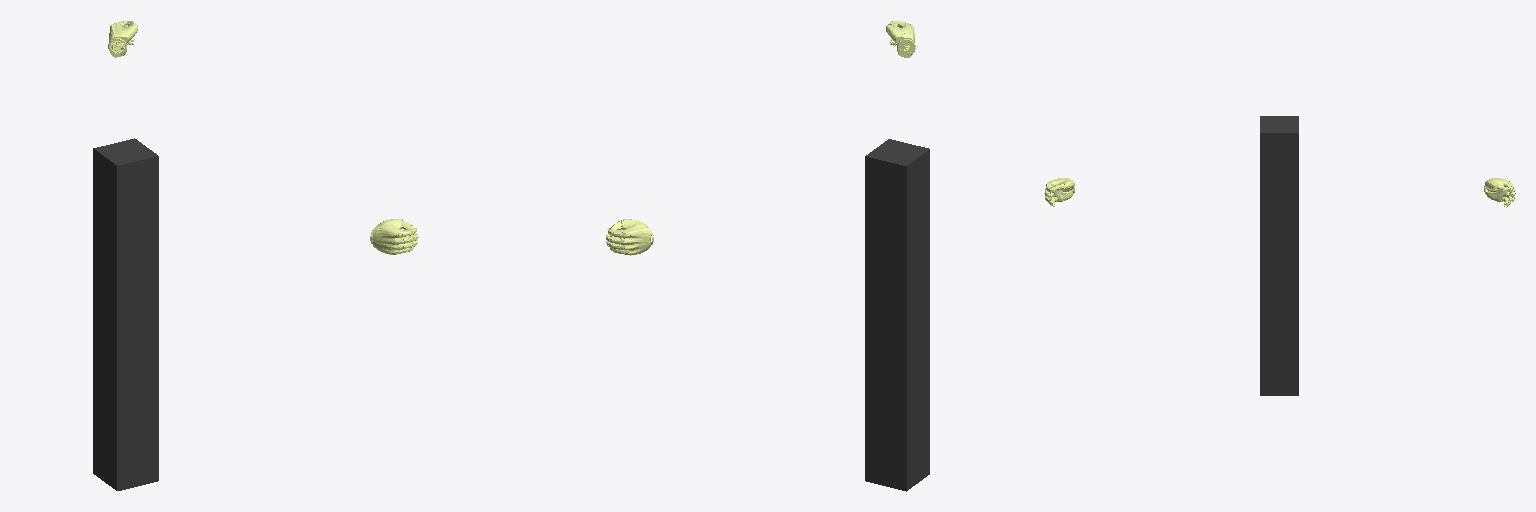
--- What the picture shows (computed from the rendered views, not written in the file) ---
3 views of the same robot in one strip: view 1: azimuth 30°, elevation 25°; view 2: azimuth 150°, elevation 25°; view 3: azimuth 270°, elevation 25° (orthographic).
Robot: darias — 50 links, 49 joints (44 revolute, 5 fixed); root link world; default pose: all joints at 0 but 20 set to mid-range because 0 is outside their limits (R_SMP = 0.7853, R_SMD = 0.6108, R_RIP = 0.7853, R_RID = 0.6108, R_MIP = 0.7853, R_MID = 0.6108, +14 more).
Visible links, largest first — view 1: darias, R_palm, L_palm; view 2: darias, L_palm, R_palm; view 3: darias.
Link boxes in pixels (x1,y1,x2,y2): darias: (93,138,158,490); R_palm: (370,219,403,254); L_palm: (108,23,137,57); darias: (865,139,929,491); L_palm: (621,219,653,255); R_palm: (886,24,915,57); darias: (1260,116,1298,395).
Size in the robot's own frame: 0.8218 by 2.43 by 1.5 metres.
Meshes: 13 distinct files referenced, 32 mesh visuals loaded (5 binary STL); not drawn: 14 (reference not matched to a file when rendering).

The robot description file, URDF, robot "darias":
<?xml version="1.0" ?>
<!-- =================================================================================== -->
<!-- |    This document was autogenerated by xacro from darias.urdf.xacro              | -->
<!-- |    EDITING THIS FILE BY HAND IS NOT RECOMMENDED                                 | -->
<!-- =================================================================================== -->
<robot name="darias" xmlns:controller="http://playerstage.sourceforge.net/gazebo/xmlschema/#controller" xmlns:interface="http://playerstage.sourceforge.net/gazebo/xmlschema/#interface" xmlns:sensor="http://playerstage.sourceforge.net/gazebo/xmlschema/#sensor" xmlns:xacro="http://www.ros.org/wiki/xacro">
  <!-- the mass values and inertia may not be completly correct as the moment so this model should just be used as a kinematic one now-->
  <material name="DarkGrey">
    <color rgba="0.3 0.3 0.3 1.0"/>
  </material>
  <material name="Black">
    <color rgba="0 0 0 1.0"/>
  </material>
  <material name="Grey">
    <color rgba="0.7 0.7 0.7 1.0"/>
  </material>
  <material name="Blue">
    <color rgba="0.0 0.5 0.8 1.0"/>
  </material>
  <material name="HandGray">
    <color rgba="0.953 0.996 0.694 1.0"/>
  </material>
  <!-- offset values for left and right arm, triangle forms 60 degree, offset over tabel: offset from base top: -->
  <!-- not used now need to measure offset-->
  <!-- not used now-->
  <!-- Darias base (basically just a box on which the arms are mounted on) -->
  <link name="world"/>
  <joint name="fixed" type="fixed">
    <origin rpy="0.0 0.0 0.0" xyz="0.0 0.0 1.307 "/>
    <parent link="world"/>
    <child link="darias"/>
  </joint>
  <link name="darias">
    <inertial>
      <mass value="200.0"/>
      <origin rpy="0 0 0" xyz="0 0 0.15"/>
      <!-- need to check all this inertia stuff -->
      <inertia ixx="2.38541666667" ixy="0" ixz="0" iyy="0.708333333333" iyz="0" izz="3.01041666667"/>
    </inertial>
    <visual>
      <origin rpy="0 0 0" xyz="-0.1 0 -0.472"/>
      <geometry>
        <box size="0.2 0.2 1.5"/>
      </geometry>
      <material name="DarkGrey"/>
    </visual>
    <collision>
      <origin rpy="0 0 0" xyz="-0.1 0 -0.472"/>
      <geometry>
        <box size="0.2 0.2 1.5"/>
      </geometry>
    </collision>
  </link>
  <gazebo reference="darias">
    <material value="Gazebo/Black"/>
    <turnGravityOff>0</turnGravityOff>
    <!-- use gravity for the base even if disabled for the arms in order to prevent darias from falling-->
  </gazebo>
  <!-- Darias right arm -->
  <joint name="darias_R_base" type="fixed">
    <origin rpy="1.570796 -1.570796 0.523598776" xyz="-0.11 -0.06 0.193"/>
    <parent link="darias"/>
    <child link="calib_R_base_link"/>
  </joint>
  <link name="calib_R_base_link">
    <inertial>
      <mass value="1.0"/>
      <origin rpy="0 0 0" xyz="0 0 0.055"/>
      <inertia ixx="0.00190833333333" ixy="0" ixz="0" iyy="0.0018" iyz="0" izz="0.00190833333333"/>
    </inertial>
    <visual>
      <origin rpy="0 0 0" xyz="0 0 0"/>
      <geometry>
        <mesh filename="meshes/arm/convex/arm_base_convex.stl"/>
      </geometry>
      <material name="Blue"/>
    </visual>
    <collision>
      <origin rpy="0 0 0" xyz="0 0 0"/>
      <geometry>
        <mesh filename="meshes/arm/convex/arm_base_convex.stl"/>
      </geometry>
    </collision>
  </link>
  <gazebo reference="calib_R_base_link">
    <material value="Gazebo/Blue"/>
    <turnGravityOff>1</turnGravityOff>
  </gazebo>
  <joint name="R_SFE" type="revolute">
    <!-- former revolute -->
    <origin rpy="0 0 0" xyz="0 0 0.11"/>
    <axis xyz="0 0 1"/>
    <limit effort="10000.0" lower="-2.967059" upper="2.967059" velocity="1.91986217719"/>
    <!-- 204 -->
    <safety_controller k_position="100" k_velocity="2" soft_lower_limit="-2.93215314335" soft_upper_limit="2.93215314335"/>
    <dynamics damping="0.1"/>
    <parent link="calib_R_base_link"/>
    <child link="R_1_link"/>
  </joint>
  <link name="R_1_link">
    <inertial>
      <mass value="1.0"/>
      <origin rpy="0 0 0" xyz="0 0 0.130"/>
      <inertia ixx="0.00683333333333" ixy="0" ixz="0" iyy="0.0015" iyz="0" izz="0.00593333333333"/>
    </inertial>
    <visual>
      <origin rpy="0 0 3.14159265359" xyz="0 0 0"/>
      <geometry>
        <mesh filename="meshes/arm/convex/arm_segment_a_convex.stl"/>
      </geometry>
      <material name="Blue"/>
    </visual>
    <collision>
      <origin rpy="0 0 3.14159265359" xyz="0 0 0"/>
      <geometry>
        <mesh filename="meshes/arm/convex/arm_segment_a_convex.stl"/>
      </geometry>
    </collision>
  </link>
  <gazebo reference="R_1_link">
    <material value="Gazebo/Blue"/>
    <turnGravityOff>1</turnGravityOff>
  </gazebo>
  <transmission name="R_0_trans">
    <type>transmission_interface/SimpleTransmission</type>
    <joint name="R_SFE">
      <hardwareInterface>EffortJointInterface</hardwareInterface>
    </joint>
    <actuator name="R_0_motor">
      <mechanicalReduction>1</mechanicalReduction>
    </actuator>
  </transmission>
  <joint name="R_SAA" type="revolute">
    <origin rpy="0 0 0" xyz="0 0 0.20"/>
    <axis xyz="0 -1 0"/>
    <limit effort="10000.0" lower="-2.094395" upper="2.094395" velocity="1.91986217719"/>
    <!-- effort 306 -->
    <safety_controller k_position="100" k_velocity="2" soft_lower_limit="-2.05948851735" soft_upper_limit="2.05948851735"/>
    <dynamics damping="0.1"/>
    <parent link="R_1_link"/>
    <child link="R_2_link"/>
  </joint>
  <link name="R_2_link">
    <inertial>
      <mass value="1.0"/>
      <origin rpy="0 0 0" xyz="0 0.06 0.07"/>
      <inertia ixx="0.00683333333333" ixy="0" ixz="0" iyy="0.0015" iyz="0" izz="0.00593333333333"/>
    </inertial>
    <visual>
      <origin rpy="3.14159265359 0 3.14159265359" xyz="0 0 0.2"/>
      <geometry>
        <mesh filename="meshes/arm/convex/arm_segment_b_convex.stl"/>
      </geometry>
      <material name="Blue"/>
    </visual>
    <collision>
      <origin rpy="3.14159265359 0 3.14159265359" xyz="0 0 0.2"/>
      <geometry>
        <mesh filename="meshes/arm/convex/arm_segment_b_convex.stl"/>
      </geometry>
    </collision>
  </link>
  <gazebo reference="R_2_link">
    <material value="Gazebo/Blue"/>
    <turnGravityOff>1</turnGravityOff>
  </gazebo>
  <transmission name="R_1_trans">
    <type>transmission_interface/SimpleTransmission</type>
    <joint name="R_SAA">
      <hardwareInterface>EffortJointInterface</hardwareInterface>
    </joint>  
    <actuator name="R_1_motor">
      
      <mechanicalReduction>1</mechanicalReduction>
    </actuator>
  </transmission>
  <joint name="R_HR" type="revolute">
    <origin rpy="0 0 0" xyz="0 0 0.20"/>
    <axis xyz="0 0 1"/>
    <limit effort="10000.0" lower="-2.967059" upper="2.967059" velocity="2.26892802759"/>
    <!-- 204 -->
    <safety_controller k_position="100" k_velocity="2" soft_lower_limit="-2.93215314335" soft_upper_limit="2.93215314335"/>
    <dynamics damping="0.1"/>
    <parent link="R_2_link"/>
    <child link="R_3_link"/>
  </joint>
  <link name="R_3_link">
    <inertial>
      <mass value="1.0"/>
      <origin rpy="0 0 0" xyz="0 0.06 0.130"/>
      <inertia ixx="0.00683333333333" ixy="0" ixz="0" iyy="0.0015" iyz="0" izz="0.00593333333333"/>
    </inertial>
    <visual>
      <origin rpy="0 0 0" xyz="0 0 0"/>
      <geometry>
        <mesh filename="meshes/arm/convex/arm_segment_a_convex.stl"/>
      </geometry>
      <material name="Blue"/>
    </visual>
    <collision>
      <origin rpy="0 0 0" xyz="0 0 0"/>
      <geometry>
        <mesh filename="meshes/arm/convex/arm_segment_a_convex.stl"/>
      </geometry>
    </collision>
  </link>
  <gazebo reference="R_3_link">
    <material value="Gazebo/Blue"/>
    <turnGravityOff>1</turnGravityOff>
  </gazebo>
  <transmission name="R_2_trans">
    <type>transmission_interface/SimpleTransmission</type>
    <joint name="R_HR">
      <hardwareInterface>EffortJointInterface</hardwareInterface>
    </joint>
    <actuator name="R_2_motor">
      
      <mechanicalReduction>1</mechanicalReduction>
    </actuator>
  </transmission>
  <joint name="R_EB" type="revolute">
    <origin rpy="0 0 0" xyz="0 0 0.20"/>
    <axis xyz="0 1 0"/>
    <limit effort="10000.0" lower="-2.094395" upper="2.094395" velocity="2.26892802759"/>
    <!-- 306 -->
    <safety_controller k_position="100" k_velocity="2" soft_lower_limit="-2.05948851735" soft_upper_limit="2.05948851735"/>
    <dynamics damping="0.1"/>
    <parent link="R_3_link"/>
    <child link="R_4_link"/>
  </joint>
  <link name="R_4_link">
    <inertial>
      <mass value="1.0"/>
      <origin rpy="0 0 0" xyz="0 -0.06 0.07"/>
      <inertia ixx="0.00683333333333" ixy="0" ixz="0" iyy="0.0015" iyz="0" izz="0.00593333333333"/>
    </inertial>
    <visual>
      <origin rpy="0 3.14159265359 3.14159265359" xyz="0 0 0.2"/>
      <geometry>
        <mesh filename="meshes/arm/convex/arm_segment_b_convex.stl"/>
      </geometry>
      <material name="Blue"/>
    </visual>
    <collision>
      <origin rpy="0 3.14159265359 3.14159265359" xyz="0 0 0.2"/>
      <geometry>
        <mesh filename="meshes/arm/convex/arm_segment_b_convex.stl"/>
      </geometry>
    </collision>
  </link>
  <gazebo reference="R_4_link">
    <material value="Gazebo/Blue"/>
    <turnGravityOff>1</turnGravityOff>
  </gazebo>
  <transmission name="R_3_trans">
    <type>transmission_interface/SimpleTransmission</type>
    <joint name="R_EB">
      <hardwareInterface>EffortJointInterface</hardwareInterface>
    </joint>
    <actuator name="R_3_motor">
     
      <mechanicalReduction>1</mechanicalReduction>
    </actuator>
  </transmission>
  <joint name="R_WR" type="revolute">
    <origin rpy="0 0 0" xyz="0 0 0.20"/>
    <axis xyz="0 0 1"/>
    <limit effort="10000.0" lower="-2.967059" upper="2.967059" velocity="2.26892802759"/>
    <!-- 204 -->
    <safety_controller k_position="100" k_velocity="2" soft_lower_limit="-2.93215314335" soft_upper_limit="2.93215314335"/>
    <dynamics damping="0.1"/>
    <parent link="R_4_link"/>
    <child link="R_5_link"/>
  </joint>
  <link name="R_5_link">
    <inertial>
      <mass value="1.0"/>
      <origin rpy="0 0 0" xyz="0 0 0.124"/>
      <inertia ixx="0.00632533333333" ixy="0" ixz="0" iyy="0.0015" iyz="0" izz="0.00542533333333"/>
    </inertial>
    <visual>
      <origin rpy="0 0 3.14159265359" xyz="0 0 0"/>
      <geometry name="R_5_geom">
        <mesh filename="meshes/arm/convex/arm_segment_last_convex.stl"/>
      </geometry>
      <material name="Blue"/>
    </visual>
    <collision>
      <origin rpy="0 0 3.14159265359" xyz="0 0 0"/>
      <geometry>
        <mesh filename="meshes/arm/convex/arm_segment_last_convex.stl"/>
      </geometry>
    </collision>
  </link>
  <gazebo reference="R_5_link">
    <material value="Gazebo/Blue"/>
    <turnGravityOff>1</turnGravityOff>
  </gazebo>
  <transmission name="R_4_trans">
    <type>transmission_interface/SimpleTransmission</type>
    <joint name="R_WR">
      <hardwareInterface>EffortJointInterface</hardwareInterface>
    </joint>
    <actuator name="R_4_motor">
      <mechanicalReduction>1</mechanicalReduction>
    </actuator>
  </transmission>
  <joint name="R_WFE" type="revolute">
    <origin rpy="0 0 0" xyz="0 0 0.19"/>
    <axis xyz="0 -1 0"/>
    <limit effort="10000.0" lower="-2.094395" upper="2.094395" velocity="3.14159265359"/>
    <!-- 306 -->
    <safety_controller k_position="100" k_velocity="2" soft_lower_limit="-2.05948851735" soft_upper_limit="2.05948851735"/>
    <dynamics damping="0.1"/>
    <parent link="R_5_link"/>
    <child link="R_6_link"/>
  </joint>
  <link name="R_6_link">
    <inertial>
      <mass value="1.0"/>
      <origin rpy="0 0 0" xyz="0 0 0.0625"/>
      <inertia ixx="0.00260416666667" ixy="0" ixz="0" iyy="0.00260416666667" iyz="0" izz="0.00260416666667"/>
    </inertial>
    <visual>
      <origin rpy="0 0 3.14159265359" xyz="0 0 0"/>
      <geometry>
        <mesh filename="meshes/arm/convex/arm_wrist_convex.stl"/>
      </geometry>
      <material name="HandGray"/>
    </visual>
    <collision>
      <origin rpy="0 0 3.14159265359" xyz="0 0 0"/>
      <geometry>
        <mesh filename="meshes/arm/convex/arm_wrist_convex.stl"/>
      </geometry>
    </collision>
  </link>
  <gazebo reference="R_6_link">
    <material value="Gazebo/White"/>
    <turnGravityOff>1</turnGravityOff>
  </gazebo>
  <transmission name="R_5_trans" >
    <type>transmission_interface/SimpleTransmission</type>
    <joint name="R_WFE">
      <hardwareInterface>EffortJointInterface</hardwareInterface>
    </joint>
    <actuator name="R_5_motor">
      <mechanicalReduction>1</mechanicalReduction>
    </actuator>
  </transmission>
  <joint name="R_WAA" type="revolute">
    <origin rpy="0 0 0" xyz="0.0 0 0.078"/>
    <axis xyz="0 0 1"/>
    <limit effort="10000.0" lower="-2.967059" upper="2.967059" velocity="3.14159265359"/>
    <safety_controller k_position="100" k_velocity="2" soft_lower_limit="-2.93215314335" soft_upper_limit="2.93215314335"/>
    <dynamics damping="0.1"/>
    <parent link="R_6_link"/>
    <child link="right_endeffector_link"/>
  </joint>
  <transmission name="R_6_trans">
    <type>transmission_interface/SimpleTransmission</type>
    <joint name="R_WAA">
      <hardwareInterface>EffortJointInterface</hardwareInterface>
    </joint>
    <actuator name="R_6_motor">
      <mechanicalReduction>1</mechanicalReduction>
    </actuator>
  </transmission>
  <link name="right_endeffector_link">
    <inertial>
      <mass value="1"/>
      <origin rpy="0 0 0" xyz="0 0 0.0625"/>
      <inertia ixx="0.00260416666667" ixy="0" ixz="0" iyy="0.00260416666667" iyz="0" izz="0.00260416666667"/>
    </inertial>
  </link>
  <gazebo reference="right_endeffector_link">
    <material value="Gazebo/White"/>
    <turnGravityOff>1</turnGravityOff>
  </gazebo>
  <!-- Darias left arm -->
  <joint name="darias_L_base" type="fixed">
    <origin rpy="1.570796 1.570796 2.617993878" xyz="-0.11 0.06 0.193"/>
    <parent link="darias"/>
    <child link="calib_L_base_link"/>
  </joint>
  <link name="calib_L_base_link">
    <inertial>
      <mass value="1.0"/>
      <origin rpy="0 0 0" xyz="0 0 0.055"/>
      <inertia ixx="0.00190833333333" ixy="0" ixz="0" iyy="0.0018" iyz="0" izz="0.00190833333333"/>
    </inertial>
    <visual>
      <origin rpy="0 0 0" xyz="0 0 0"/>
      <geometry>
        <mesh filename="meshes/arm/convex/arm_base_convex.stl"/>
      </geometry>
      <material name="Blue"/>
    </visual>
    <collision>
      <origin rpy="0 0 0" xyz="0 0 0"/>
      <geometry>
        <mesh filename="meshes/arm/convex/arm_base_convex.stl"/>
      </geometry>
    </collision>
  </link>
  <gazebo reference="calib_L_base_link">
    <material value="Gazebo/Blue"/>
    <turnGravityOff>1</turnGravityOff>
  </gazebo>
  <joint name="L_SFE" type="revolute">
    <!-- former revolute -->
    <origin rpy="0 0 0" xyz="0 0 0.11"/>
    <axis xyz="0 0 1"/>
    <limit effort="10000.0" lower="-2.967059" upper="2.967059" velocity="1.91986217719"/>
    <!-- 204 -->
    <safety_controller k_position="100" k_velocity="2" soft_lower_limit="-2.93215314335" soft_upper_limit="2.93215314335"/>
    <dynamics damping="0.1"/>
    <parent link="calib_L_base_link"/>
    <child link="L_1_link"/>
  </joint>
  <link name="L_1_link">
    <inertial>
      <mass value="1.0"/>
      <origin rpy="0 0 0" xyz="0 0 0.130"/>
      <inertia ixx="0.00683333333333" ixy="0" ixz="0" iyy="0.0015" iyz="0" izz="0.00593333333333"/>
    </inertial>
    <visual>
      <origin rpy="0 0 3.14159265359" xyz="0 0 0"/>
      <geometry>
        <mesh filename="meshes/arm/convex/arm_segment_a_convex.stl"/>
      </geometry>
      <material name="Blue"/>
    </visual>
    <collision>
      <origin rpy="0 0 3.14159265359" xyz="0 0 0"/>
      <geometry>
        <mesh filename="meshes/arm/convex/arm_segment_a_convex.stl"/>
      </geometry>
    </collision>
  </link>
  <gazebo reference="L_1_link">
    <material value="Gazebo/Blue"/>
    <turnGravityOff>1</turnGravityOff>
  </gazebo>
  <transmission name="L_0_trans">
    <type>transmission_interface/SimpleTransmission</type>
    <joint name="L_SFE">
      <hardwareInterface>EffortJointInterface</hardwareInterface>
    </joint>
    <actuator name="L_0_motor">
      <mechanicalReduction>1</mechanicalReduction>
    </actuator>
  </transmission>
  <joint name="L_SAA" type="revolute">
    <origin rpy="0 0 0" xyz="0 0 0.20"/>
    <axis xyz="0 -1 0"/>
    <limit effort="10000.0" lower="-2.094395" upper="2.094395" velocity="1.91986217719"/>
    <!-- effort 306 -->
    <safety_controller k_position="100" k_velocity="2" soft_lower_limit="-2.05948851735" soft_upper_limit="2.05948851735"/>
    <dynamics damping="0.1"/>
    <parent link="L_1_link"/>
    <child link="L_2_link"/>
  </joint>
  <link name="L_2_link">
    <inertial>
      <mass value="1.0"/>
      <origin rpy="0 0 0" xyz="0 0.06 0.07"/>
      <inertia ixx="0.00683333333333" ixy="0" ixz="0" iyy="0.0015" iyz="0" izz="0.00593333333333"/>
    </inertial>
    <visual>
      <origin rpy="3.14159265359 0 3.14159265359" xyz="0 0 0.2"/>
      <geometry>
        <mesh filename="meshes/arm/convex/arm_segment_b_convex.stl"/>
      </geometry>
      <material name="Blue"/>
    </visual>
    <collision>
      <origin rpy="3.14159265359 0 3.14159265359" xyz="0 0 0.2"/>
      <geometry>
        <mesh filename="meshes/arm/convex/arm_segment_b_convex.stl"/>
      </geometry>
    </collision>
  </link>
  <gazebo reference="L_2_link">
    <material value="Gazebo/Blue"/>
    <turnGravityOff>1</turnGravityOff>
  </gazebo>
  <transmission name="L_1_trans">
    <type>transmission_interface/SimpleTransmission</type>
    <joint name="L_SAA">
      <hardwareInterface>EffortJointInterface</hardwareInterface>
    </joint>
    <actuator name="L_1_motor">
      <mechanicalReduction>1</mechanicalReduction>
    </actuator>
  </transmission>
  <joint name="L_HR" type="revolute">
    <origin rpy="0 0 0" xyz="0 0 0.20"/>
    <axis xyz="0 0 1"/>
    <limit effort="10000.0" lower="-2.967059" upper="2.967059" velocity="2.26892802759"/>
    <!-- 204 -->
    <safety_controller k_position="100" k_velocity="2" soft_lower_limit="-2.93215314335" soft_upper_limit="2.93215314335"/>
    <dynamics damping="0.1"/>
    <parent link="L_2_link"/>
    <child link="L_3_link"/>
  </joint>
  <link name="L_3_link">
    <inertial>
      <mass value="1.0"/>
      <origin rpy="0 0 0" xyz="0 0.06 0.130"/>
      <inertia ixx="0.00683333333333" ixy="0" ixz="0" iyy="0.0015" iyz="0" izz="0.00593333333333"/>
    </inertial>
    <visual>
      <origin rpy="0 0 0" xyz="0 0 0"/>
      <geometry>
        <mesh filename="meshes/arm/convex/arm_segment_a_convex.stl"/>
      </geometry>
      <material name="Blue"/>
    </visual>
    <collision>
      <origin rpy="0 0 0" xyz="0 0 0"/>
      <geometry>
        <mesh filename="meshes/arm/convex/arm_segment_a_convex.stl"/>
      </geometry>
    </collision>
  </link>
  <gazebo reference="L_3_link">
    <material value="Gazebo/Blue"/>
    <turnGravityOff>1</turnGravityOff>
  </gazebo>
  <transmission name="L_2_trans">
    <type>transmission_interface/SimpleTransmission</type>
    <joint name="L_HR">
      <hardwareInterface>EffortJointInterface</hardwareInterface>
    </joint>
    <actuator name="L_2_motor">
      <mechanicalReduction>1</mechanicalReduction>
    </actuator>
  </transmission>
  <joint name="L_EB" type="revolute">
    <origin rpy="0 0 0" xyz="0 0 0.20"/>
    <axis xyz="0 1 0"/>
    <limit effort="10000.0" lower="-2.094395" upper="2.094395" velocity="2.26892802759"/>
    <!-- 306 -->
    <safety_controller k_position="100" k_velocity="2" soft_lower_limit="-2.05948851735" soft_upper_limit="2.05948851735"/>
    <dynamics damping="0.1"/>
    <parent link="L_3_link"/>
    <child link="L_4_link"/>
  </joint>
  <link name="L_4_link">
    <inertial>
      <mass value="1.0"/>
      <origin rpy="0 0 0" xyz="0 -0.06 0.07"/>
      <inertia ixx="0.00683333333333" ixy="0" ixz="0" iyy="0.0015" iyz="0" izz="0.00593333333333"/>
    </inertial>
    <visual>
      <origin rpy="0 3.14159265359 3.14159265359" xyz="0 0 0.2"/>
      <geometry>
        <mesh filename="meshes/arm/convex/arm_segment_b_convex.stl"/>
      </geometry>
      <material name="Blue"/>
    </visual>
    <collision>
      <origin rpy="0 3.14159265359 3.14159265359" xyz="0 0 0.2"/>
      <geometry>
        <mesh filename="meshes/arm/convex/arm_segment_b_convex.stl"/>
      </geometry>
    </collision>
  </link>
  <gazebo reference="L_4_link">
    <material value="Gazebo/Blue"/>
    <turnGravityOff>1</turnGravityOff>
  </gazebo>
  <transmission name="L_3_trans">
    <type>transmission_interface/SimpleTransmission</type>
    <joint name="L_EB">
      <hardwareInterface>EffortJointInterface</hardwareInterface>
    </joint>
    <actuator name="L_3_motor">
      <mechanicalReduction>1</mechanicalReduction>
    </actuator>
  </transmission>
  <joint name="L_WR" type="revolute">
    <origin rpy="0 0 0" xyz="0 0 0.20"/>
    <axis xyz="0 0 1"/>
    <limit effort="10000.0" lower="-2.967059" upper="2.967059" velocity="2.26892802759"/>
    <!-- 204 -->
    <safety_controller k_position="100" k_velocity="2" soft_lower_limit="-2.93215314335" soft_upper_limit="2.93215314335"/>
    <dynamics damping="0.1"/>
    <parent link="L_4_link"/>
    <child link="L_5_link"/>
  </joint>
  <link name="L_5_link">
    <inertial>
      <mass value="1.0"/>
      <origin rpy="0 0 0" xyz="0 0 0.124"/>
      <inertia ixx="0.00632533333333" ixy="0" ixz="0" iyy="0.0015" iyz="0" izz="0.00542533333333"/>
    </inertial>
    <visual>
      <origin rpy="0 0 3.14159265359" xyz="0 0 0"/>
      <geometry name="L_5_geom">
        <mesh filename="meshes/arm/convex/arm_segment_last_convex.stl"/>
      </geometry>
      <material name="Blue"/>
    </visual>
    <collision>
      <origin rpy="0 0 3.14159265359" xyz="0 0 0"/>
      <geometry>
        <mesh filename="meshes/arm/convex/arm_segment_last_convex.stl"/>
      </geometry>
    </collision>
  </link>
  <gazebo reference="L_5_link">
    <material value="Gazebo/Blue"/>
    <turnGravityOff>1</turnGravityOff>
  </gazebo>
  <transmission name="L_4_trans">
    <type>transmission_interface/SimpleTransmission</type>
    <joint name="L_WR">
      <hardwareInterface>EffortJointInterface</hardwareInterface>
    </joint>
    <actuator name="L_4_motor">
      <mechanicalReduction>1</mechanicalReduction>
    </actuator>
  </transmission>
  <joint name="L_WFE" type="revolute">
    <origin rpy="0 0 0" xyz="0 0 0.19"/>
    <axis xyz="0 -1 0"/>
    <limit effort="10000.0" lower="-2.094395" upper="2.094395" velocity="3.14159265359"/>
    <!-- 306 -->
    <safety_controller k_position="100" k_velocity="2" soft_lower_limit="-2.05948851735" soft_upper_limit="2.05948851735"/>
    <dynamics damping="0.1"/>
    <parent link="L_5_link"/>
    <child link="L_6_link"/>
  </joint>
  <link name="L_6_link">
    <inertial>
      <mass value="1.0"/>
      <origin rpy="0 0 0" xyz="0 0 0.0625"/>
      <inertia ixx="0.00260416666667" ixy="0" ixz="0" iyy="0.00260416666667" iyz="0" izz="0.00260416666667"/>
    </inertial>
    <visual>
      <origin rpy="0 0 3.14159265359" xyz="0 0 0"/>
      <geometry>
        <mesh filename="meshes/arm/convex/arm_wrist_convex.stl"/>
      </geometry>
      <material name="HandGray"/>
    </visual>
    <collision>
      <origin rpy="0 0 3.14159265359" xyz="0 0 0"/>
      <geometry>
        <mesh filename="meshes/arm/convex/arm_wrist_convex.stl"/>
      </geometry>
    </collision>
  </link>
  <gazebo reference="L_6_link">
    <material value="Gazebo/White"/>
    <turnGravityOff>1</turnGravityOff>
  </gazebo>
  <transmission name="L_5_trans">
    <type>transmission_interface/SimpleTransmission</type>
    <joint name="L_WFE">
      <hardwareInterface>EffortJointInterface</hardwareInterface>
    </joint>
    <actuator name="L_5_motor">
      <mechanicalReduction>1</mechanicalReduction>
    </actuator>
  </transmission>
  <joint name="L_WAA" type="revolute">
    <origin rpy="0 0 0" xyz="0.0 0 0.078"/>
    <axis xyz="0 0 1"/>
    <limit effort="10000.0" lower="-2.094395" upper="2.094395" velocity="3.14159265359"/>
    <safety_controller k_position="100" k_velocity="2" soft_lower_limit="-2.93215314335" soft_upper_limit="2.93215314335"/>
    <dynamics damping="0.1"/>
    <parent link="L_6_link"/>
    <child link="left_endeffector_link"/>
  </joint>
  <transmission name="L_6_trans">
    <type>transmission_interface/SimpleTransmission</type>
    <joint name="L_WAA">
      <hardwareInterface>EffortJointInterface</hardwareInterface>
    </joint>
    <actuator name="L_6_motor">
      <mechanicalReduction>1</mechanicalReduction>
    </actuator>
  </transmission>
  <link name="left_endeffector_link">
    <inertial>
      <mass value="1"/>
      <origin rpy="0 0 0" xyz="0 0 0.0625"/>
      <inertia ixx="0.00260416666667" ixy="0" ixz="0" iyy="0.00260416666667" iyz="0" izz="0.00260416666667"/>
    </inertial>
  </link>
  <gazebo reference="left_endeffector_link">
    <material value="Gazebo/White"/>
    <turnGravityOff>1</turnGravityOff>
  </gazebo>
  <!-- right Hand of darias -->
  <joint name="R_mount" type="fixed">
    <limit effort="10000.0" lower="-2.96705972839" upper="2.96705972839" velocity="3.14159265359"/>
    <parent link="right_endeffector_link"/>
    <child link="R_palm"/>
    <origin rpy="0 0 -1.57" xyz="0.0 0 0"/>
  </joint>
  <link name="R_palm">
    <inertial>
      <origin rpy="0 0 0" xyz="-0.004 0.002 0.076"/>
      <mass value="0.5"/>
      <inertia ixx="0.00141454166667" ixy="0" ixz="0" iyy="0.000900333333333" iyz="0" izz="0.00175454166667"/>
    </inertial>
    <visual>
      <origin rpy="1.57 0  1.57 " xyz="0.02 0.007  0.025"/>
      <geometry>
        <mesh filename="meshes/hand/righthandbase.stl" scale="0.001 0.001 0.001"/>
      </geometry>
      <material name="HandGray"/>
    </visual>
    <collision>
      <origin rpy="1.57 0  1.57" xyz="0.02 0.007  0.025"/>
      <geometry>
        <mesh filename="meshes/hand/righthandbase.stl" scale="0.001 0.001 0.001"/>
      </geometry>
    </collision>
  </link>
  <gazebo reference="R_palm">
    <material value="Gazebo/White"/>
    <turnGravityOff>1</turnGravityOff>
  </gazebo>
  <joint name="R_SMS" type="revolute">
    <parent link="R_palm"/>
    <child link="R_SMS_link"/>
    <origin rpy="1.570796 -1.536488 1.570796" xyz="0.000971571  -0.043396306  0.095043545"/>
    <axis xyz="0 0 1"/>
    <limit effort="100" lower="-0.261" upper="0.2618" velocity="100"/>
    <dynamics damping="0.005"/>
  </joint>
  <transmission name="R_SMS_trans">
    <type>transmission_interface/SimpleTransmission</type>
    <joint name="R_SMS">
      <hardwareInterface>EffortJointInterface</hardwareInterface>
    </joint>
    <actuator name="R_SMS_motor">
      <mechanicalReduction>1</mechanicalReduction>
    </actuator>
  </transmission>
  <link name="R_SMS_link">
    <inertial>
      <origin rpy="0 0 0" xyz="0.004 0 0"/>
      <mass value="0.1"/>
      <inertia ixx="2.24083333333e-05" ixy="0" ixz="0" iyy="1.42833333333e-05" iyz="0" izz="1.85416666667e-05"/>
    </inertial>
    <visual>
      <origin rpy="0 0 0" xyz="0 0 0"/>
      <geometry>
        <mesh filename="meshes/hand/finger_base.stl"/>
      </geometry>
      <material name="HandGray"/>
    </visual>
    <collision>
      <origin rpy="0 0 0" xyz="0 0 0"/>
      <geometry>
        <mesh filename="meshes/hand/finger_base.stl"/>
      </geometry>
    </collision>
  </link>
  <gazebo reference="R_SMS_link">
    <material value="Gazebo/White"/>
    <turnGravityOff>1</turnGravityOff>
  </gazebo>
  <joint name="R_SMP" type="revolute">
    <parent link="R_SMS_link"/>
    <child link="R_SMP_link"/>
    <origin rpy="1.570796 0 0" xyz="0 0 0"/>
    <axis xyz="0 0 1"/>
    <limit effort="100" lower="0.087" upper="1.4835" velocity="100"/>
    <dynamics damping="0.005"/>
  </joint>
  <transmission name="R_SMP_trans">
    <type>transmission_interface/SimpleTransmission</type>
    <joint name="R_SMP">
      <hardwareInterface>EffortJointInterface</hardwareInterface>
    </joint>
    <actuator name="R_SMP_motor">
      <mechanicalReduction>1</mechanicalReduction>
    </actuator>
  </transmission>
  <link name="R_SMP_link">
    <inertial>
      <origin rpy="0 0 0" xyz="0.035 -0.02 0"/>
      <mass value="0.1"/>
      <inertia ixx="6.68333333333e-05" ixy="0" ixz="0" iyy="7.00416666667e-05" iyz="0" izz="2.48083333333e-05"/>
    </inertial>
    <visual>
      <origin rpy="0 -1.57  -1.57 " xyz="-0.085 0.015  -0.03"/>
      <geometry>
        <mesh filename="meshes/hand/fore_proximalp.stl" scale="0.001 0.001 0.001"/>
      </geometry>
      <material name="HandGray"/>
    </visual>
    <collision>
      <origin rpy="0 -1.57  -1.57" xyz="-0.085 0.015  -0.03"/>
      <geometry>
        <mesh filename="meshes/hand/fore_proximalp.stl" scale="0.001 0.001 0.001"/>
      </geometry>
    </collision>
  </link>
  <gazebo reference="R_SMP_link">
    <material value="Gazebo/White"/>
    <turnGravityOff>1</turnGravityOff>
  </gazebo>
  <joint name="R_SMD" type="revolute">
    <parent link="R_SMP_link"/>
    <child link="R_SMD_link"/>
    <origin rpy="0 0 0" xyz="0.055 0 0"/>
    <axis xyz="0 0 1"/>
    <limit effort="100" lower="0.087" upper="1.1345" velocity="100"/>
    <dynamics damping="0.005"/>
  </joint>
  <transmission name="R_SMD_trans">
    <type>transmission_interface/SimpleTransmission</type>
    <joint name="R_SMD">
      <hardwareInterface>EffortJointInterface</hardwareInterface>
    </joint>
    <actuator name="R_SMD_motor">
      <mechanicalReduction>1</mechanicalReduction>
    </actuator>
  </transmission>
  <link name="R_SMD_link">
    <inertial>
      <origin rpy="0 0 0" xyz="0.015 -0.01 0"/>
      <mass value="0.1"/>
      <inertia ixx="3.00333333333e-05" ixy="0" ixz="0" iyy="2.90666666667e-05" iyz="0" izz="1.40333333333e-05"/>
    </inertial>
    <visual>
      <origin rpy="0 -1.57  -1.55" xyz="-0.14 0.015  -0.03"/>
      <geometry>
        <mesh filename="meshes/hand/fore_middlep.stl" scale="0.001 0.001 0.001"/>
      </geometry>
      <material name="HandGray"/>
    </visual>
    <collision>
      <origin rpy="0 -1.57  -1.55" xyz="-0.14 0.015  -0.03"/>
      <geometry>
        <mesh filename="meshes/hand/fore_middlep.stl" scale="0.001 0.001 0.001"/>
      </geometry>
    </collision>
  </link>
  <gazebo reference="R_SMD_link">
    <material value="Gazebo/White"/>
    <turnGravityOff>1</turnGravityOff>
  </gazebo>
  
  <joint name="R_RIS" type="revolute">
    <parent link="R_palm"/>
    <child link="R_RIS_link"/>
    <origin rpy="1.570796 -1.536488 1.570796" xyz="-0.002529881 -0.016800135 0.114043545"/>
    <axis xyz="0 0 1"/>
    <limit effort="100" lower="-0.261" upper="0.2618" velocity="100"/>
    <dynamics damping="0.005"/>
  </joint>
  <transmission name="R_RIS_trans">
    <type>transmission_interface/SimpleTransmission</type>
    <joint name="R_RIS">
      <hardwareInterface>EffortJointInterface</hardwareInterface>
    </joint>
    <actuator name="R_RIS_motor">
      <mechanicalReduction>1</mechanicalReduction>
    </actuator>
  </transmission>
  <link name="R_RIS_link">
    <inertial>
      <origin rpy="0 0 0" xyz="0.004 0 0"/>
      <mass value="0.1"/>
      <inertia ixx="2.24083333333e-05" ixy="0" ixz="0" iyy="1.42833333333e-05" iyz="0" izz="1.85416666667e-05"/>
    </inertial>
    <visual>
      <origin rpy="0 0 0" xyz="0 0 0"/>
      <geometry>
        <mesh filename="meshes/hand/finger_base.stl"/>
      </geometry>
      <material name="HandGray"/>
    </visual>
    <collision>
      <origin rpy="0 0 0" xyz="0 0 0"/>
      <geometry>
        <mesh filename="meshes/hand/finger_base.stl"/>
      </geometry>
    </collision>
  </link>
  <gazebo reference="R_RIS_link">
    <material value="Gazebo/White"/>
    <turnGravityOff>1</turnGravityOff>
  </gazebo>
  <joint name="R_RIP" type="revolute">
    <parent link="R_RIS_link"/>
    <child link="R_RIP_link"/>
    <origin rpy="1.570796 0 0" xyz="0 0 0"/>
    <axis xyz="0 0 1"/>
    <limit effort="100" lower="0.087" upper="1.4835" velocity="100"/>
    <dynamics damping="0.005"/>
  </joint>
  <transmission name="R_RIP_trans">
    <type>transmission_interface/SimpleTransmission</type>
    <joint name="R_RIP">
      <hardwareInterface>EffortJointInterface</hardwareInterface>
    </joint>
    <actuator name="R_RIP_motor">
      <mechanicalReduction>1</mechanicalReduction>
    </actuator>
  </transmission>
  <link name="R_RIP_link">
    <inertial>
      <origin rpy="0 0 0" xyz="0.035 -0.02 0"/>
      <mass value="0.1"/>
      <inertia ixx="6.68333333333e-05" ixy="0" ixz="0" iyy="7.00416666667e-05" iyz="0" izz="2.48083333333e-05"/>
    </inertial>
    <visual>
      <origin rpy="0 -1.57  -1.57 " xyz="-0.085 0.015  -0.03"/>
      <geometry>
        <mesh filename="meshes/hand/fore_proximalp.stl" scale="0.001 0.001 0.001"/>
      </geometry>
      <material name="HandGray"/>
    </visual>
    <collision>
      <origin rpy="0 -1.57  -1.57" xyz="-0.085 0.015  -0.03"/>
      <geometry>
        <mesh filename="meshes/hand/fore_proximalp.stl" scale="0.001 0.001 0.001"/>
      </geometry>
    </collision>
  </link>
  <gazebo reference="R_RIP_link">
    <material value="Gazebo/White"/>
    <turnGravityOff>1</turnGravityOff>
  </gazebo>
  <joint name="R_RID" type="revolute">
    <parent link="R_RIP_link"/>
    <child link="R_RID_link"/>
    <origin rpy="0 0 0" xyz="0.055 0 0"/>
    <axis xyz="0 0 1"/>
    <limit effort="100" lower="0.087" upper="1.1345" velocity="100"/>
    <dynamics damping="0.005"/>
  </joint>
  <transmission name="R_RID_trans">
    <type>transmission_interface/SimpleTransmission</type>
    <joint name="R_RID">
      <hardwareInterface>EffortJointInterface</hardwareInterface>
    </joint>
    <actuator name="R_RID_motor">
      <mechanicalReduction>1</mechanicalReduction>
    </actuator>
  </transmission>
  <link name="R_RID_link">
    <inertial>
      <origin rpy="0 0 0" xyz="0.015 -0.01 0"/>
      <mass value="0.1"/>
      <inertia ixx="3.00333333333e-05" ixy="0" ixz="0" iyy="2.90666666667e-05" iyz="0" izz="1.40333333333e-05"/>
    </inertial>
    <visual>
      <origin rpy="0 -1.57  -1.55" xyz="-0.14 0.015  -0.03"/>
      <geometry>
        <mesh filename="meshes/hand/fore_middlep.stl" scale="0.001 0.001 0.001"/>
      </geometry>
      <material name="HandGray"/>
    </visual>
    <collision>
      <origin rpy="0 -1.57  -1.55" xyz="-0.14 0.015  -0.03"/>
      <geometry>
        <mesh filename="meshes/hand/fore_middlep.stl" scale="0.001 0.001 0.001"/>
      </geometry>
    </collision>
  </link>
  <gazebo reference="R_RID_link">
    <material value="Gazebo/White"/>
    <turnGravityOff>1</turnGravityOff>
  </gazebo>

  <joint name="R_MIS" type="revolute">
    <parent link="R_palm"/>
    <child link="R_MIS_link"/>
    <origin rpy="1.570796 -1.536488 1.570796" xyz="-0.002529881 0.009800135 0.116743545 "/>
    <axis xyz="0 0 1"/>
    <limit effort="100" lower="-0.261" upper="0.2618" velocity="100"/>
    <dynamics damping="0.005"/>
  </joint>
  <transmission name="R_MIS_trans">
    <type>transmission_interface/SimpleTransmission</type>
    <joint name="R_MIS">
      <hardwareInterface>EffortJointInterface</hardwareInterface>
    </joint>
    <actuator name="R_MIS_motor">
      <mechanicalReduction>1</mechanicalReduction>
    </actuator>
  </transmission>
  <link name="R_MIS_link">
    <inertial>
      <origin rpy="0 0 0" xyz="0.004 0 0"/>
      <mass value="0.1"/>
      <inertia ixx="2.24083333333e-05" ixy="0" ixz="0" iyy="1.42833333333e-05" iyz="0" izz="1.85416666667e-05"/>
    </inertial>
    <visual>
      <origin rpy="0 0 0" xyz="0 0 0"/>
      <geometry>
        <mesh filename="meshes/hand/finger_base.stl"/>
      </geometry>
      <material name="HandGray"/>
    </visual>
    <collision>
      <origin rpy="0 0 0" xyz="0 0 0"/>
      <geometry>
        <mesh filename="meshes/hand/finger_base.stl"/>
      </geometry>
    </collision>
  </link>
  <gazebo reference="R_MIS_link">
    <material value="Gazebo/White"/>
    <turnGravityOff>1</turnGravityOff>
  </gazebo>
  <joint name="R_MIP" type="revolute">
    <parent link="R_MIS_link"/>
    <child link="R_MIP_link"/>
    <origin rpy="1.570796 0 0" xyz="0 0 0"/>
    <axis xyz="0 0 1"/>
    <limit effort="100" lower="0.087" upper="1.4835" velocity="100"/>
    <dynamics damping="0.005"/>
  </joint>
  <transmission name="R_MIP_trans">
    <type>transmission_interface/SimpleTransmission</type>
    <joint name="R_MIP">
      <hardwareInterface>EffortJointInterface</hardwareInterface>
    </joint>
    <actuator name="R_MIP_motor">
      <mechanicalReduction>1</mechanicalReduction>
    </actuator>
  </transmission>
  <link name="R_MIP_link">
    <inertial>
      <origin rpy="0 0 0" xyz="0.035 -0.02 0"/>
      <mass value="0.1"/>
      <inertia ixx="6.68333333333e-05" ixy="0" ixz="0" iyy="7.00416666667e-05" iyz="0" izz="2.48083333333e-05"/>
    </inertial>
    <visual>
      <origin rpy="0 -1.57  -1.57 " xyz="-0.085 0.015  -0.03"/>
      <geometry>
        <mesh filename="meshes/hand/fore_proximalp.stl" scale="0.001 0.001 0.001"/>
      </geometry>
      <material name="HandGray"/>
    </visual>
    <collision>
      <origin rpy="0 -1.57  -1.57" xyz="-0.085 0.015  -0.03"/>
      <geometry>
        <mesh filename="meshes/hand/fore_proximalp.stl" scale="0.001 0.001 0.001"/>
      </geometry>
    </collision>
  </link>
  <gazebo reference="R_MIP_link">
    <material value="Gazebo/White"/>
    <turnGravityOff>1</turnGravityOff>
  </gazebo>
  <joint name="R_MID" type="revolute">
    <parent link="R_MIP_link"/>
    <child link="R_MID_link"/>
    <origin rpy="0 0 0" xyz="0.055 0 0"/>
    <axis xyz="0 0 1"/>
    <limit effort="100" lower="0.087" upper="1.1345" velocity="100"/>
    <dynamics damping="0.005"/>
  </joint>
  <transmission name="R_MID_trans">
    <type>transmission_interface/SimpleTransmission</type>
    <joint name="R_MID">
      <hardwareInterface>EffortJointInterface</hardwareInterface>
    </joint>
    <actuator name="R_MID_motor">
      <mechanicalReduction>1</mechanicalReduction>
    </actuator>
  </transmission>
  <link name="R_MID_link">
    <inertial>
      <origin rpy="0 0 0" xyz="0.015 -0.01 0"/>
      <mass value="0.1"/>
      <inertia ixx="3.00333333333e-05" ixy="0" ixz="0" iyy="2.90666666667e-05" iyz="0" izz="1.40333333333e-05"/>
    </inertial>
    <visual>
      <origin rpy="0 -1.57  -1.55" xyz="-0.14 0.015  -0.03"/>
      <geometry>
        <mesh filename="meshes/hand/fore_middlep.stl" scale="0.001 0.001 0.001"/>
      </geometry>
      <material name="HandGray"/>
    </visual>
    <collision>
      <origin rpy="0 -1.57  -1.55" xyz="-0.14 0.015  -0.03"/>
      <geometry>
        <mesh filename="meshes/hand/fore_middlep.stl" scale="0.001 0.001 0.001"/>
      </geometry>
    </collision>
  </link>
  <gazebo reference="R_MID_link">
    <material value="Gazebo/White"/>
    <turnGravityOff>1</turnGravityOff>
  </gazebo>
  
  <joint name="R_INS" type="revolute">
    <parent link="R_palm"/>
    <child link="R_INS_link"/>
    <origin rpy="1.570796 -1.536488 1.570796" xyz="-0.002529881 0.036800135 0.108743545"/>
    <axis xyz="0 0 1"/>
    <limit effort="100" lower="-0.261" upper="0.2618" velocity="100"/>
    <dynamics damping="0.005"/>
  </joint>
  <transmission name="R_INS_trans">
    <type>transmission_interface/SimpleTransmission</type>
    <joint name="R_INS">
      <hardwareInterface>EffortJointInterface</hardwareInterface>
    </joint>
    <actuator name="R_INS_motor">
      <mechanicalReduction>1</mechanicalReduction>
    </actuator>
  </transmission>
  <link name="R_INS_link">
    <inertial>
      <origin rpy="0 0 0" xyz="0.004 0 0"/>
      <mass value="0.1"/>
      <inertia ixx="2.24083333333e-05" ixy="0" ixz="0" iyy="1.42833333333e-05" iyz="0" izz="1.85416666667e-05"/>
    </inertial>
    <visual>
      <origin rpy="0 0 0" xyz="0 0 0"/>
      <geometry>
        <mesh filename="meshes/hand/finger_base.stl"/>
      </geometry>
      <material name="HandGray"/>
    </visual>
    <collision>
      <origin rpy="0 0 0" xyz="0 0 0"/>
      <geometry>
        <mesh filename="meshes/hand/finger_base.stl"/>
      </geometry>
    </collision>
  </link>
  <gazebo reference="R_INS_link">
    <material value="Gazebo/White"/>
    <turnGravityOff>1</turnGravityOff>
  </gazebo>
  <joint name="R_INP" type="revolute">
    <parent link="R_INS_link"/>
    <child link="R_INP_link"/>
    <origin rpy="1.570796 0 0" xyz="0 0 0"/>
    <axis xyz="0 0 1"/>
    <limit effort="100" lower="0.087" upper="1.4835" velocity="100"/>
    <dynamics damping="0.005"/>
  </joint>
  <transmission name="R_INP_trans">
    <type>transmission_interface/SimpleTransmission</type>
    <joint name="R_INP">
      <hardwareInterface>EffortJointInterface</hardwareInterface>
    </joint>
    <actuator name="R_INP_motor">
      <mechanicalReduction>1</mechanicalReduction>
    </actuator>
  </transmission>
  <link name="R_INP_link">
    <inertial>
      <origin rpy="0 0 0" xyz="0.035 -0.02 0"/>
      <mass value="0.1"/>
      <inertia ixx="6.68333333333e-05" ixy="0" ixz="0" iyy="7.00416666667e-05" iyz="0" izz="2.48083333333e-05"/>
    </inertial>
    <visual>
      <origin rpy="0 -1.57  -1.57 " xyz="-0.085 0.015  -0.03"/>
      <geometry>
        <mesh filename="meshes/hand/fore_proximalp.stl" scale="0.001 0.001 0.001"/>
      </geometry>
      <material name="HandGray"/>
    </visual>
    <collision>
      <origin rpy="0 -1.57  -1.57" xyz="-0.085 0.015  -0.03"/>
      <geometry>
        <mesh filename="meshes/hand/fore_proximalp.stl" scale="0.001 0.001 0.001"/>
      </geometry>
    </collision>
  </link>
  <gazebo reference="R_INP_link">
    <material value="Gazebo/White"/>
    <turnGravityOff>1</turnGravityOff>
  </gazebo>
  <joint name="R_IND" type="revolute">
    <parent link="R_INP_link"/>
    <child link="R_IND_link"/>
    <origin rpy="0 0 0" xyz="0.055 0 0"/>
    <axis xyz="0 0 1"/>
    <limit effort="100" lower="0.087" upper="1.1345" velocity="100"/>
    <dynamics damping="0.005"/>
  </joint>
  <transmission name="R_IND_trans">
    <type>transmission_interface/SimpleTransmission</type>
    <joint name="R_IND">
      <hardwareInterface>EffortJointInterface</hardwareInterface>
    </joint>
    <actuator name="R_IND_motor">
      <mechanicalReduction>1</mechanicalReduction>
    </actuator>
  </transmission>
  <link name="R_IND_link">
    <inertial>
      <origin rpy="0 0 0" xyz="0.015 -0.01 0"/>
      <mass value="0.1"/>
      <inertia ixx="3.00333333333e-05" ixy="0" ixz="0" iyy="2.90666666667e-05" iyz="0" izz="1.40333333333e-05"/>
    </inertial>
    <visual>
      <origin rpy="0 -1.57  -1.55" xyz="-0.14 0.015  -0.03"/>
      <geometry>
        <mesh filename="meshes/hand/fore_middlep.stl" scale="0.001 0.001 0.001"/>
      </geometry>
      <material name="HandGray"/>
    </visual>
    <collision>
      <origin rpy="0 -1.57  -1.55" xyz="-0.14 0.015  -0.03"/>
      <geometry>
        <mesh filename="meshes/hand/fore_middlep.stl" scale="0.001 0.001 0.001"/>
      </geometry>
    </collision>
  </link>
  <gazebo reference="R_IND_link">
    <material value="Gazebo/White"/>
    <turnGravityOff>1</turnGravityOff>
  </gazebo>
  
  <joint name="R_THS" type="revolute">
    <parent link="R_palm"/>
    <child link="R_THS_link"/>
    <origin rpy="0.0 -0.959927 0.60796" xyz="0.062569057 0.044544548 0.080044647"/>
    <axis xyz="0 0 1"/>
    <limit effort="100" lower="-0.261" upper="0.2618" velocity="100"/>
    <dynamics damping="0.005"/>
  </joint>
  <transmission name="R_THS_trans">
    <type>transmission_interface/SimpleTransmission</type>
    <joint name="R_THS">
      <hardwareInterface>EffortJointInterface</hardwareInterface>
    </joint>
    <actuator name="R_THS_motor">
      <mechanicalReduction>1</mechanicalReduction>
    </actuator>
  </transmission>
  <link name="R_THS_link">
    <inertial>
      <origin rpy="0 0 0" xyz="0.004 0 0"/>
      <mass value="0.1"/>
      <inertia ixx="2.24083333333e-05" ixy="0" ixz="0" iyy="1.42833333333e-05" iyz="0" izz="1.85416666667e-05"/>
    </inertial>
    <visual>
      <origin rpy="0 0 0" xyz="0 0 0"/>
      <geometry>
        <mesh filename="meshes/hand/finger_base.stl"/>
      </geometry>
      <material name="HandGray"/>
    </visual>
    <collision>
      <origin rpy="0 0 0" xyz="0 0 0"/>
      <geometry>
        <mesh filename="meshes/hand/finger_base.stl"/>
      </geometry>
    </collision>
  </link>
  <gazebo reference="R_THS_link">
    <material value="Gazebo/White"/>
    <turnGravityOff>1</turnGravityOff>
  </gazebo>
  <joint name="R_THP" type="revolute">
    <parent link="R_THS_link"/>
    <child link="R_THP_link"/>
    <origin rpy="1.570796 0 0" xyz="0 0 0"/>
    <axis xyz="0 0 1"/>
    <limit effort="100" lower="0.087" upper="1.4835" velocity="100"/>
    <dynamics damping="0.005"/>
  </joint>
  <transmission name="R_THP_trans">
    <type>transmission_interface/SimpleTransmission</type>
    <joint name="R_THP">
      <hardwareInterface>EffortJointInterface</hardwareInterface>
    </joint>
    <actuator name="R_THP_motor">
      <mechanicalReduction>1</mechanicalReduction>
    </actuator>
  </transmission>
  <link name="R_THP_link">
    <inertial>
      <origin rpy="0 0 0" xyz="0.035 -0.02 0"/>
      <mass value="0.1"/>
      <inertia ixx="6.68333333333e-05" ixy="0" ixz="0" iyy="7.00416666667e-05" iyz="0" izz="2.48083333333e-05"/>
    </inertial>
    <visual>
      <origin rpy="0 -1.57  -1.57 " xyz="-0.085 0.015  -0.03"/>
      <geometry>
        <mesh filename="meshes/hand/fore_proximalp.stl" scale="0.001 0.001 0.001"/>
      </geometry>
      <material name="HandGray"/>
    </visual>
    <collision>
      <origin rpy="0 -1.57  -1.57" xyz="-0.085 0.015  -0.03"/>
      <geometry>
        <mesh filename="meshes/hand/fore_proximalp.stl" scale="0.001 0.001 0.001"/>
      </geometry>
    </collision>
  </link>
  <gazebo reference="R_THP_link">
    <material value="Gazebo/White"/>
    <turnGravityOff>1</turnGravityOff>
  </gazebo>
  <joint name="R_THD" type="revolute">
    <parent link="R_THP_link"/>
    <child link="R_THD_link"/>
    <origin rpy="0 0 0" xyz="0.055 0 0"/>
    <axis xyz="0 0 1"/>
    <limit effort="100" lower="0.087" upper="1.1345" velocity="100"/>
    <dynamics damping="0.005"/>
  </joint>
  <transmission name="R_THD_trans">
    <type>transmission_interface/SimpleTransmission</type>
    <joint name="R_THD">
      <hardwareInterface>EffortJointInterface</hardwareInterface>
    </joint>
    <actuator name="R_THD_motor">
      <mechanicalReduction>1</mechanicalReduction>
    </actuator>
  </transmission>
  <link name="R_THD_link">
    <inertial>
      <origin rpy="0 0 0" xyz="0.015 -0.01 0"/>
      <mass value="0.1"/>
      <inertia ixx="3.00333333333e-05" ixy="0" ixz="0" iyy="2.90666666667e-05" iyz="0" izz="1.40333333333e-05"/>
    </inertial>
    <visual>
      <origin rpy="0 -1.57  -1.55" xyz="-0.14 0.015  -0.03"/>
      <geometry>
        <mesh filename="meshes/hand/fore_middlep.stl" scale="0.001 0.001 0.001"/>
      </geometry>
      <material name="HandGray"/>
    </visual>
    <collision>
      <origin rpy="0 -1.57  -1.55" xyz="-0.14 0.015  -0.03"/>
      <geometry>
        <mesh filename="meshes/hand/fore_middlep.stl" scale="0.001 0.001 0.001"/>
      </geometry>
    </collision>
  </link>
  <gazebo reference="R_THD_link">
    <material value="Gazebo/White"/>
    <turnGravityOff>1</turnGravityOff>
  </gazebo>
  <!-- left Hand of darias -->
  <joint name="L_mount" type="fixed">
    <limit effort="10000.0" lower="-2.96705972839" upper="2.96705972839" velocity="3.14159265359"/>
    <parent link="left_endeffector_link"/>
    <child link="L_palm"/>
    <origin rpy="0 0 -1.57" xyz="0.0 0 0"/>
  </joint>
  <link name="L_palm">
    <inertial>
      <origin rpy="0 0 0" xyz="-0.004 0.002 0.076"/>
      <mass value="0.5"/>
      <inertia ixx="0.00141454166667" ixy="0" ixz="0" iyy="0.000900333333333" iyz="0" izz="0.00175454166667"/>
    </inertial>
    <visual>
      <origin rpy="1.57 0  1.57 " xyz="0.02 -0.007  0.025"/>
      <geometry>
        <mesh filename="meshes/hand/lefthandbase.stl"/>
      </geometry>
      <material name="HandGray"/>
    </visual>
    <collision>
      <origin rpy="1.57 0  1.57" xyz="0.02 -0.007  0.025"/>
      <geometry>
        <mesh filename="meshes/hand/lefthandbase.stl"/>
      </geometry>
    </collision>
  </link>
  <gazebo reference="L_palm">
    <material value="Gazebo/White"/>
    <turnGravityOff>1</turnGravityOff>
  </gazebo>
  <joint name="L_SMS" type="revolute">
    <parent link="L_palm"/>
    <child link="L_SMS_link"/>
    <origin rpy="1.570796 -1.536488 1.570796" xyz="0.000971571 0.043396306 0.095043545"/>
    <axis xyz="0 0 1"/>
    <limit effort="100" lower="-0.261" upper="0.2618" velocity="100"/>
    <dynamics damping="0.005"/>
  </joint>
  <transmission name="L_SMS_trans">
    <type>transmission_interface/SimpleTransmission</type>
    <joint name="L_SMS">
      <hardwareInterface>EffortJointInterface</hardwareInterface>
    </joint>  
    <actuator name="L_SMS_motor">
      <mechanicalReduction>1</mechanicalReduction>
    </actuator>
  </transmission>
  <link name="L_SMS_link">
    <inertial>
      <origin rpy="0 0 0" xyz="0.004 0 0"/>
      <mass value="0.1"/>
      <inertia ixx="2.24083333333e-05" ixy="0" ixz="0" iyy="1.42833333333e-05" iyz="0" izz="1.85416666667e-05"/>
    </inertial>
    <visual>
      <origin rpy="0 0 0" xyz="0 0 0"/>
      <geometry>
        <mesh filename="meshes/hand/finger_base.stl"/>
      </geometry>
      <material name="HandGray"/>
    </visual>
    <collision>
      <origin rpy="0 0 0" xyz="0 0 0"/>
      <geometry>
        <mesh filename="meshes/hand/finger_base.stl"/>
      </geometry>
    </collision>
  </link>
  <gazebo reference="L_SMS_link">
    <material value="Gazebo/White"/>
    <turnGravityOff>1</turnGravityOff>
  </gazebo>
  <joint name="L_SMP" type="revolute">
    <parent link="L_SMS_link"/>
    <child link="L_SMP_link"/>
    <origin rpy="1.570796 0 0" xyz="0 0 0"/>
    <axis xyz="0 0 1"/>
    <limit effort="100" lower="0.087" upper="1.4835" velocity="100"/>
    <dynamics damping="0.005"/>
  </joint>
  <transmission name="L_SMP_trans">
    <type>transmission_interface/SimpleTransmission</type>
    <joint name="L_SMP">
      <hardwareInterface>EffortJointInterface</hardwareInterface>
    </joint>
    <actuator name="L_SMP_motor">
      <mechanicalReduction>1</mechanicalReduction>
    </actuator>
  </transmission>
  <link name="L_SMP_link">
    <inertial>
      <origin rpy="0 0 0" xyz="0.035 -0.02 0"/>
      <mass value="0.1"/>
      <inertia ixx="6.68333333333e-05" ixy="0" ixz="0" iyy="7.00416666667e-05" iyz="0" izz="2.48083333333e-05"/>
    </inertial>
    <visual>
      <origin rpy="0 -1.57  -1.57 " xyz="-0.085 0.015  -0.03"/>
      <geometry>
        <mesh filename="meshes/hand/fore_proximalp.stl" scale="0.001 0.001 0.001"/>
      </geometry>
      <material name="HandGray"/>
    </visual>
    <collision>
      <origin rpy="0 -1.57  -1.57" xyz="-0.085 0.015  -0.03"/>
      <geometry>
        <mesh filename="meshes/hand/fore_proximalp.stl" scale="0.001 0.001 0.001"/>
      </geometry>
    </collision>
  </link>
  <gazebo reference="L_SMP_link">
    <material value="Gazebo/White"/>
    <turnGravityOff>1</turnGravityOff>
  </gazebo>
  <joint name="L_SMD" type="revolute">
    <parent link="L_SMP_link"/>
    <child link="L_SMD_link"/>
    <origin rpy="0 0 0" xyz="0.055 0 0"/>
    <axis xyz="0 0 1"/>
    <limit effort="100" lower="0.087" upper="1.1345" velocity="100"/>
    <dynamics damping="0.005"/>
  </joint>
  <transmission name="L_SMD_trans">
    <type>transmission_interface/SimpleTransmission</type>
    <joint name="L_SMD">
      <hardwareInterface>EffortJointInterface</hardwareInterface>
    </joint>
    <actuator name="L_SMD_motor">
      <mechanicalReduction>1</mechanicalReduction>
    </actuator>
  </transmission>
  <link name="L_SMD_link">
    <inertial>
      <origin rpy="0 0 0" xyz="0.015 -0.01 0"/>
      <mass value="0.1"/>
      <inertia ixx="3.00333333333e-05" ixy="0" ixz="0" iyy="2.90666666667e-05" iyz="0" izz="1.40333333333e-05"/>
    </inertial>
    <visual>
      <origin rpy="0 -1.57  -1.55" xyz="-0.14 0.015  -0.03"/>
      <geometry>
        <mesh filename="meshes/hand/fore_middlep.stl" scale="0.001 0.001 0.001"/>
      </geometry>
      <material name="HandGray"/>
    </visual>
    <collision>
      <origin rpy="0 -1.57  -1.55" xyz="-0.14 0.015  -0.03"/>
      <geometry>
        <mesh filename="meshes/hand/fore_middlep.stl" scale="0.001 0.001 0.001"/>
      </geometry>
    </collision>
  </link>
  <gazebo reference="L_SMD_link">
    <material value="Gazebo/White"/>
    <turnGravityOff>1</turnGravityOff>
  </gazebo>
 
  <joint name="L_RIS" type="revolute">
    <parent link="L_palm"/>
    <child link="L_RIS_link"/>
    <origin rpy="1.570796 -1.536488 1.570796" xyz="-0.002529881 0.016800135 0.114043545"/>
    <axis xyz="0 0 1"/>
    <limit effort="100" lower="-0.261" upper="0.2618" velocity="100"/>
    <dynamics damping="0.005"/>
  </joint>
  <transmission name="L_RIS_trans">
    <type>transmission_interface/SimpleTransmission</type>
    <joint name="L_RIS">
      <hardwareInterface>EffortJointInterface</hardwareInterface>
    </joint>
    <actuator name="L_RIS_motor">
      <mechanicalReduction>1</mechanicalReduction>
    </actuator>
  </transmission>
  <link name="L_RIS_link">
    <inertial>
      <origin rpy="0 0 0" xyz="0.004 0 0"/>
      <mass value="0.1"/>
      <inertia ixx="2.24083333333e-05" ixy="0" ixz="0" iyy="1.42833333333e-05" iyz="0" izz="1.85416666667e-05"/>
    </inertial>
    <visual>
      <origin rpy="0 0 0" xyz="0 0 0"/>
      <geometry>
        <mesh filename="meshes/hand/finger_base.stl"/>
      </geometry>
      <material name="HandGray"/>
    </visual>
    <collision>
      <origin rpy="0 0 0" xyz="0 0 0"/>
      <geometry>
        <mesh filename="meshes/hand/finger_base.stl"/>
      </geometry>
    </collision>
  </link>
  <gazebo reference="L_RIS_link">
    <material value="Gazebo/White"/>
    <turnGravityOff>1</turnGravityOff>
  </gazebo>
  <joint name="L_RIP" type="revolute">
    <parent link="L_RIS_link"/>
    <child link="L_RIP_link"/>
    <origin rpy="1.570796 0 0" xyz="0 0 0"/>
    <axis xyz="0 0 1"/>
    <limit effort="100" lower="0.087" upper="1.4835" velocity="100"/>
    <dynamics damping="0.005"/>
  </joint>
  <transmission name="L_RIP_trans">
    <type>transmission_interface/SimpleTransmission</type>
    <joint name="L_RIP">
      <hardwareInterface>EffortJointInterface</hardwareInterface>
    </joint>
    <actuator name="L_RIP_motor">
      <mechanicalReduction>1</mechanicalReduction>
    </actuator>
  </transmission>
  <link name="L_RIP_link">
    <inertial>
      <origin rpy="0 0 0" xyz="0.035 -0.02 0"/>
      <mass value="0.1"/>
      <inertia ixx="6.68333333333e-05" ixy="0" ixz="0" iyy="7.00416666667e-05" iyz="0" izz="2.48083333333e-05"/>
    </inertial>
    <visual>
      <origin rpy="0 -1.57  -1.57 " xyz="-0.085 0.015  -0.03"/>
      <geometry>
        <mesh filename="meshes/hand/fore_proximalp.stl" scale="0.001 0.001 0.001"/>
      </geometry>
      <material name="HandGray"/>
    </visual>
    <collision>
      <origin rpy="0 -1.57  -1.57" xyz="-0.085 0.015  -0.03"/>
      <geometry>
        <mesh filename="meshes/hand/fore_proximalp.stl" scale="0.001 0.001 0.001"/>
      </geometry>
    </collision>
  </link>
  <gazebo reference="L_RIP_link">
    <material value="Gazebo/White"/>
    <turnGravityOff>1</turnGravityOff>
  </gazebo>
  <joint name="L_RID" type="revolute">
    <parent link="L_RIP_link"/>
    <child link="L_RID_link"/>
    <origin rpy="0 0 0" xyz="0.055 0 0"/>
    <axis xyz="0 0 1"/>
    <limit effort="100" lower="0.087" upper="1.1345" velocity="100"/>
    <dynamics damping="0.005"/>
  </joint>
  <transmission name="L_RID_trans">
    <type>transmission_interface/SimpleTransmission</type>
    <joint name="L_RID">
      <hardwareInterface>EffortJointInterface</hardwareInterface>
    </joint>
    <actuator name="L_RID_motor">
      <mechanicalReduction>1</mechanicalReduction>
    </actuator>
  </transmission>
  <link name="L_RID_link">
    <inertial>
      <origin rpy="0 0 0" xyz="0.015 -0.01 0"/>
      <mass value="0.1"/>
      <inertia ixx="3.00333333333e-05" ixy="0" ixz="0" iyy="2.90666666667e-05" iyz="0" izz="1.40333333333e-05"/>
    </inertial>
    <visual>
      <origin rpy="0 -1.57  -1.55" xyz="-0.14 0.015  -0.03"/>
      <geometry>
        <mesh filename="meshes/hand/fore_middlep.stl" scale="0.001 0.001 0.001"/>
      </geometry>
      <material name="HandGray"/>
    </visual>
    <collision>
      <origin rpy="0 -1.57  -1.55" xyz="-0.14 0.015  -0.03"/>
      <geometry>
        <mesh filename="meshes/hand/fore_middlep.stl" scale="0.001 0.001 0.001"/>
      </geometry>
    </collision>
  </link>
  <gazebo reference="L_RID_link">
    <material value="Gazebo/White"/>
    <turnGravityOff>1</turnGravityOff>
  </gazebo>
  
  <joint name="L_MIS" type="revolute">
    <parent link="L_palm"/>
    <child link="L_MIS_link"/>
    <origin rpy="1.570796 -1.536488 1.570796" xyz=" -0.0037 -0.01 0.1190 "/>
    <axis xyz="0 0 1"/>
    <limit effort="100" lower="-0.261" upper="0.2618" velocity="100"/>
    <dynamics damping="0.005"/>
  </joint>
  <transmission name="L_MIS_trans">
    <type>transmission_interface/SimpleTransmission</type>
    <joint name="L_MIS">
      <hardwareInterface>EffortJointInterface</hardwareInterface>
    </joint>
    <actuator name="L_MIS_motor">
      <mechanicalReduction>1</mechanicalReduction>
    </actuator>
  </transmission>
  <link name="L_MIS_link">
    <inertial>
      <origin rpy="0 0 0" xyz="0.004 0 0"/>
      <mass value="0.1"/>
      <inertia ixx="2.24083333333e-05" ixy="0" ixz="0" iyy="1.42833333333e-05" iyz="0" izz="1.85416666667e-05"/>
    </inertial>
    <visual>
      <origin rpy="0 0 0" xyz="0 0 0"/>
      <geometry>
        <mesh filename="meshes/hand/finger_base.stl"/>
      </geometry>
      <material name="HandGray"/>
    </visual>
    <collision>
      <origin rpy="0 0 0" xyz="0 0 0"/>
      <geometry>
        <mesh filename="meshes/hand/finger_base.stl"/>
      </geometry>
    </collision>
  </link>
  <gazebo reference="L_MIS_link">
    <material value="Gazebo/White"/>
    <turnGravityOff>1</turnGravityOff>
  </gazebo>
  <joint name="L_MIP" type="revolute">
    <parent link="L_MIS_link"/>
    <child link="L_MIP_link"/>
    <origin rpy="1.570796 0 0" xyz="0 0 0"/>
    <axis xyz="0 0 1"/>
    <limit effort="100" lower="0.087" upper="1.4835" velocity="100"/>
    <dynamics damping="0.005"/>
  </joint>
  <transmission name="L_MIP_trans">
    <type>transmission_interface/SimpleTransmission</type>
    <joint name="L_MIP">
      <hardwareInterface>EffortJointInterface</hardwareInterface>
    </joint>
    <actuator name="L_MIP_motor">
      <mechanicalReduction>1</mechanicalReduction>
    </actuator>
  </transmission>
  <link name="L_MIP_link">
    <inertial>
      <origin rpy="0 0 0" xyz="0.035 -0.02 0"/>
      <mass value="0.1"/>
      <inertia ixx="6.68333333333e-05" ixy="0" ixz="0" iyy="7.00416666667e-05" iyz="0" izz="2.48083333333e-05"/>
    </inertial>
    <visual>
      <origin rpy="0 -1.57  -1.57 " xyz="-0.085 0.015  -0.03"/>
      <geometry>
        <mesh filename="meshes/hand/fore_proximalp.stl" scale="0.001 0.001 0.001"/>
      </geometry>
      <material name="HandGray"/>
    </visual>
    <collision>
      <origin rpy="0 -1.57  -1.57" xyz="-0.085 0.015  -0.03"/>
      <geometry>
        <mesh filename="meshes/hand/fore_proximalp.stl" scale="0.001 0.001 0.001"/>
      </geometry>
    </collision>
  </link>
  <gazebo reference="L_MIP_link">
    <material value="Gazebo/White"/>
    <turnGravityOff>1</turnGravityOff>
  </gazebo>
  <joint name="L_MID" type="revolute">
    <parent link="L_MIP_link"/>
    <child link="L_MID_link"/>
    <origin rpy="0 0 0" xyz="0.055 0 0"/>
    <axis xyz="0 0 1"/>
    <limit effort="100" lower="0.087" upper="1.1345" velocity="100"/>
    <dynamics damping="0.005"/>
  </joint>
  <transmission name="L_MID_trans">
    <type>transmission_interface/SimpleTransmission</type>
    <joint name="L_MID">
      <hardwareInterface>EffortJointInterface</hardwareInterface>
    </joint>
    <actuator name="L_MID_motor">
      <mechanicalReduction>1</mechanicalReduction>
    </actuator>
  </transmission>
  <link name="L_MID_link">
    <inertial>
      <origin rpy="0 0 0" xyz="0.015 -0.01 0"/>
      <mass value="0.1"/>
      <inertia ixx="3.00333333333e-05" ixy="0" ixz="0" iyy="2.90666666667e-05" iyz="0" izz="1.40333333333e-05"/>
    </inertial>
    <visual>
      <origin rpy="0 -1.57  -1.55" xyz="-0.14 0.015  -0.03"/>
      <geometry>
        <mesh filename="meshes/hand/fore_middlep.stl" scale="0.001 0.001 0.001"/>
      </geometry>
      <material name="HandGray"/>
    </visual>
    <collision>
      <origin rpy="0 -1.57  -1.55" xyz="-0.14 0.015  -0.03"/>
      <geometry>
        <mesh filename="meshes/hand/fore_middlep.stl" scale="0.001 0.001 0.001"/>
      </geometry>
    </collision>
  </link>
  <gazebo reference="L_MID_link">
    <material value="Gazebo/White"/>
    <turnGravityOff>1</turnGravityOff>
  </gazebo>
  
  <joint name="L_INS" type="revolute">
    <parent link="L_palm"/>
    <child link="L_INS_link"/>
    <origin rpy="1.570796 -1.536488 1.570796" xyz=" -0.002529881 -0.036800135 0.108743545"/>
    <axis xyz="0 0 1"/>
    <limit effort="100" lower="-0.261" upper="0.2618" velocity="100"/>
    <dynamics damping="0.005"/>
  </joint>
  <transmission name="L_INS_trans">
    <type>transmission_interface/SimpleTransmission</type>
    <joint name="L_INS">
      <hardwareInterface>EffortJointInterface</hardwareInterface>
    </joint>
    <actuator name="L_INS_motor">
      <mechanicalReduction>1</mechanicalReduction>
    </actuator>
  </transmission>
  <link name="L_INS_link">
    <inertial>
      <origin rpy="0 0 0" xyz="0.004 0 0"/>
      <mass value="0.1"/>
      <inertia ixx="2.24083333333e-05" ixy="0" ixz="0" iyy="1.42833333333e-05" iyz="0" izz="1.85416666667e-05"/>
    </inertial>
    <visual>
      <origin rpy="0 0 0" xyz="0 0 0"/>
      <geometry>
        <mesh filename="meshes/hand/finger_base.stl"/>
      </geometry>
      <material name="HandGray"/>
    </visual>
    <collision>
      <origin rpy="0 0 0" xyz="0 0 0"/>
      <geometry>
        <mesh filename="meshes/hand/finger_base.stl"/>
      </geometry>
    </collision>
  </link>
  <gazebo reference="L_INS_link">
    <material value="Gazebo/White"/>
    <turnGravityOff>1</turnGravityOff>
  </gazebo>
  <joint name="L_INP" type="revolute">
    <parent link="L_INS_link"/>
    <child link="L_INP_link"/>
    <origin rpy="1.570796 0 0" xyz="0 0 0"/>
    <axis xyz="0 0 1"/>
    <limit effort="100" lower="0.087" upper="1.4835" velocity="100"/>
    <dynamics damping="0.005"/>
  </joint>
  <transmission name="L_INP_trans">
    <type>transmission_interface/SimpleTransmission</type>
    <joint name="L_INP">
      <hardwareInterface>EffortJointInterface</hardwareInterface>
    </joint>
    <actuator name="L_INP_motor">
      <mechanicalReduction>1</mechanicalReduction>
    </actuator>
  </transmission>
  <link name="L_INP_link">
    <inertial>
      <origin rpy="0 0 0" xyz="0.035 -0.02 0"/>
      <mass value="0.1"/>
      <inertia ixx="6.68333333333e-05" ixy="0" ixz="0" iyy="7.00416666667e-05" iyz="0" izz="2.48083333333e-05"/>
    </inertial>
    <visual>
      <origin rpy="0 -1.57  -1.57 " xyz="-0.085 0.015  -0.03"/>
      <geometry>
        <mesh filename="package://meshes/hand/fore_proximalp.stl" scale="0.001 0.001 0.001"/>
      </geometry>
      <material name="HandGray"/>
    </visual>
    <collision>
      <origin rpy="0 -1.57  -1.57" xyz="-0.085 0.015  -0.03"/>
      <geometry>
        <mesh filename="package://meshes/hand/fore_proximalp.stl" scale="0.001 0.001 0.001"/>
      </geometry>
    </collision>
  </link>
  <gazebo reference="L_INP_link">
    <material value="Gazebo/White"/>
    <turnGravityOff>1</turnGravityOff>
  </gazebo>
  <joint name="L_IND" type="revolute">
    <parent link="L_INP_link"/>
    <child link="L_IND_link"/>
    <origin rpy="0 0 0" xyz="0.055 0 0"/>
    <axis xyz="0 0 1"/>
    <limit effort="100" lower="0.087" upper="1.1345" velocity="100"/>
    <dynamics damping="0.005"/>
  </joint>
  <transmission name="L_IND_trans">
    <type>transmission_interface/SimpleTransmission</type>
    <joint name="L_IND">
      <hardwareInterface>EffortJointInterface</hardwareInterface>
    </joint>
    <actuator name="L_IND_motor">
      <mechanicalReduction>1</mechanicalReduction>
    </actuator>
  </transmission>
  <link name="L_IND_link">
    <inertial>
      <origin rpy="0 0 0" xyz="0.015 -0.01 0"/>
      <mass value="0.1"/>
      <inertia ixx="3.00333333333e-05" ixy="0" ixz="0" iyy="2.90666666667e-05" iyz="0" izz="1.40333333333e-05"/>
    </inertial>
    <visual>
      <origin rpy="0 -1.57  -1.55" xyz="-0.14 0.015  -0.03"/>
      <geometry>
        <mesh filename="package://meshes/hand/fore_middlep.stl" scale="0.001 0.001 0.001"/>
      </geometry>
      <material name="HandGray"/>
    </visual>
    <collision>
      <origin rpy="0 -1.57  -1.55" xyz="-0.14 0.015  -0.03"/>
      <geometry>
        <mesh filename="package://meshes/hand/fore_middlep.stl" scale="0.001 0.001 0.001"/>
      </geometry>
    </collision>
  </link>
  <gazebo reference="L_IND_link">
    <material value="Gazebo/White"/>
    <turnGravityOff>1</turnGravityOff>
  </gazebo>

  <joint name="L_THS" type="revolute">
    <parent link="L_palm"/>
    <child link="L_THS_link"/>
    <origin rpy="0.0 -0.959927 -0.60796" xyz="0.062569057 -0.044544548 0.080044647"/>
    <axis xyz="0 0 1"/>
    <limit effort="100" lower="-0.261" upper="0.2618" velocity="100"/>
    <dynamics damping="0.005"/>
  </joint>
  <transmission name="L_THS_trans">
    <type>transmission_interface/SimpleTransmission</type>
    <joint name="L_THS">
      <hardwareInterface>EffortJointInterface</hardwareInterface>
    </joint>
    <actuator name="L_THS_motor">
      <mechanicalReduction>1</mechanicalReduction>
    </actuator>
  </transmission>
  <link name="L_THS_link">
    <inertial>
      <origin rpy="0 0 0" xyz="0.004 0 0"/>
      <mass value="0.1"/>
      <inertia ixx="2.24083333333e-05" ixy="0" ixz="0" iyy="1.42833333333e-05" iyz="0" izz="1.85416666667e-05"/>
    </inertial>
    <visual>
      <origin rpy="0 0 0" xyz="0 0 0"/>
      <geometry>
        <mesh filename="package://meshes/hand/finger_base.stl"/>
      </geometry>
      <material name="HandGray"/>
    </visual>
    <collision>
      <origin rpy="0 0 0" xyz="0 0 0"/>
      <geometry>
        <mesh filename="meshes/hand/finger_base.stl"/>
      </geometry>
    </collision>
  </link>
  <gazebo reference="L_THS_link">
    <material value="Gazebo/White"/>
    <turnGravityOff>1</turnGravityOff>
  </gazebo>
  <joint name="L_THP" type="revolute">
    <parent link="L_THS_link"/>
    <child link="L_THP_link"/>
    <origin rpy="1.570796 0 0" xyz="0 0 0"/>
    <axis xyz="0 0 1"/>
    <limit effort="100" lower="0.087" upper="1.4835" velocity="100"/>
    <dynamics damping="0.005"/>
  </joint>
  <transmission name="L_THP_trans">
    <type>transmission_interface/SimpleTransmission</type>
    <joint name="L_THP">
      <hardwareInterface>EffortJointInterface</hardwareInterface>
    </joint>
    <actuator name="L_THP_motor">
      <mechanicalReduction>1</mechanicalReduction>
    </actuator>
  </transmission>
  <link name="L_THP_link">
    <inertial>
      <origin rpy="0 0 0" xyz="0.035 -0.02 0"/>
      <mass value="0.1"/>
      <inertia ixx="6.68333333333e-05" ixy="0" ixz="0" iyy="7.00416666667e-05" iyz="0" izz="2.48083333333e-05"/>
    </inertial>
    <visual>
      <origin rpy="0 -1.57  -1.57 " xyz="-0.085 0.015  -0.03"/>
      <geometry>
        <mesh filename="meshes/hand/fore_proximalp.stl" scale="0.001 0.001 0.001"/>
      </geometry>
      <material name="HandGray"/>
    </visual>
    <collision>
      <origin rpy="0 -1.57  -1.57" xyz="-0.085 0.015  -0.03"/>
      <geometry>
        <mesh filename="meshes/hand/fore_proximalp.stl" scale="0.001 0.001 0.001"/>
      </geometry>
    </collision>
  </link>
  <gazebo reference="L_THP_link">
    <material value="Gazebo/White"/>
    <turnGravityOff>1</turnGravityOff>
  </gazebo>
  <joint name="L_THD" type="revolute">
    <parent link="L_THP_link"/>
    <child link="L_THD_link"/>
    <origin rpy="0 0 0" xyz="0.055 0 0"/>
    <axis xyz="0 0 1"/>
    <limit effort="100" lower="0.087" upper="1.1345" velocity="100"/>
    <dynamics damping="0.005"/>
  </joint>
  <transmission name="L_THD_trans">
    <type>transmission_interface/SimpleTransmission</type>
    <joint name="L_THD">
      <hardwareInterface>EffortJointInterface</hardwareInterface>
    </joint>
    <actuator name="L_THD_motor">
      <mechanicalReduction>1</mechanicalReduction>
    </actuator>
  </transmission>
  <link name="L_THD_link">
    <inertial>
      <origin rpy="0 0 0" xyz="0.015 -0.01 0"/>
      <mass value="0.1"/>
      <inertia ixx="3.00333333333e-05" ixy="0" ixz="0" iyy="2.90666666667e-05" iyz="0" izz="1.40333333333e-05"/>
    </inertial>
    <visual>
      <origin rpy="0 -1.57  -1.55" xyz="-0.14 0.015  -0.03"/>
      <geometry>
        <mesh filename="meshes/hand/fore_middlep.stl" scale="0.001 0.001 0.001"/>
      </geometry>
      <material name="HandGray"/>
    </visual>
    <collision>
      <origin rpy="0 -1.57  -1.55" xyz="-0.14 0.015  -0.03"/>
      <geometry>
        <mesh filename="meshes/hand/fore_middlep.stl" scale="0.001 0.001 0.001"/>
      </geometry>
    </collision>
  </link>
  <gazebo reference="L_THD_link">
    <material value="Gazebo/White"/>
    <turnGravityOff>1</turnGravityOff>
  </gazebo>
  
  <!-- gazebo plugin for ros control -->
  <gazebo>
    <plugin filename="libgazebo_ros_control.so" name="gazebo_ros_control">
      <robotNamespace>/darias</robotNamespace>
    </plugin>
  </gazebo>
</robot>
